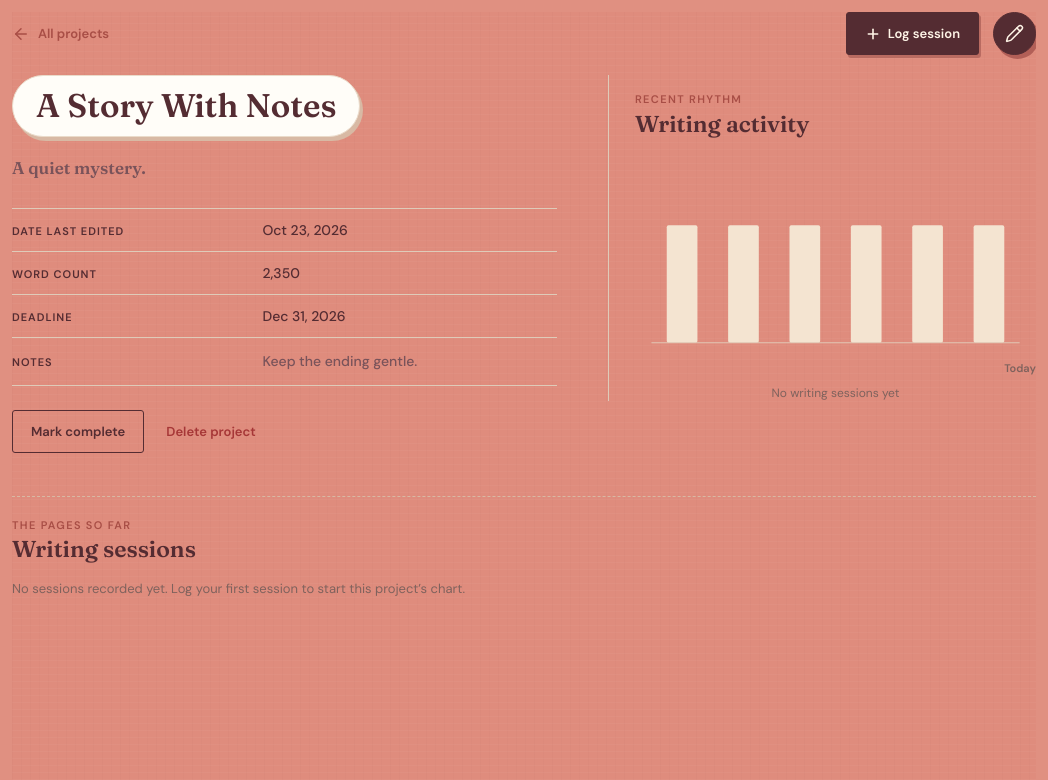
Test: ProjectDetail › opens the edit form from the pencil control
This screenshot has width=1048, height=780.
Click the button named "Edit project": (1014, 34) top-left (993, 12), bottom-right (1036, 55)
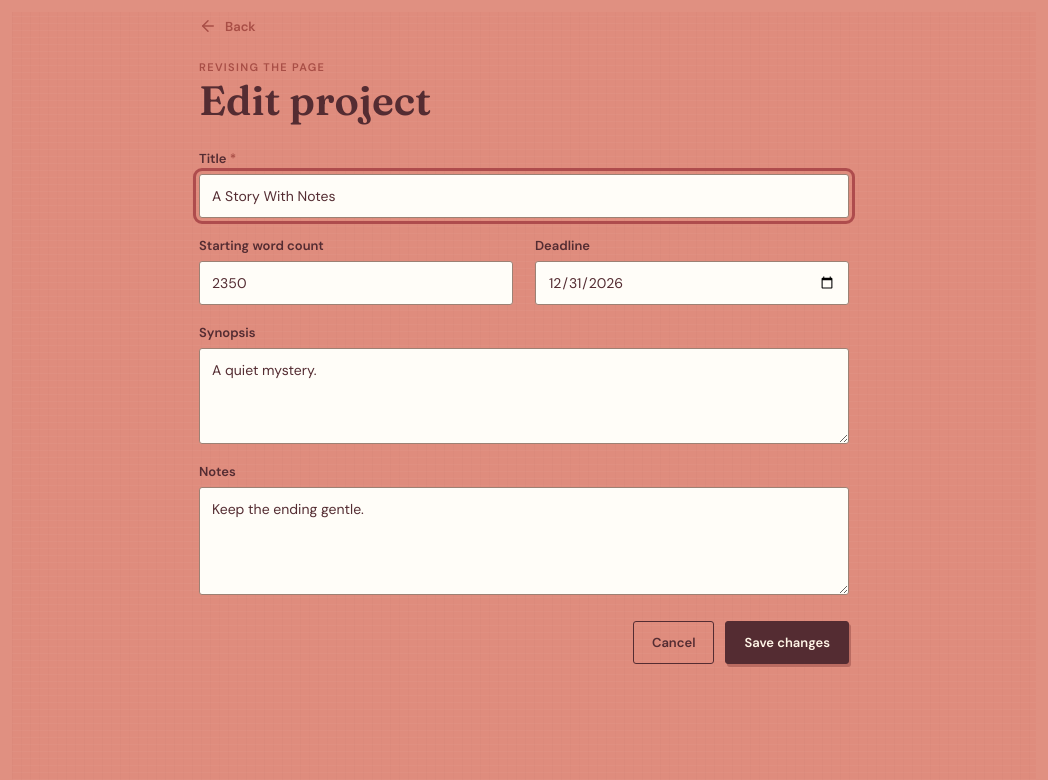
Now the heading "Edit project" is shown, box top-left (199, 75), bottom-right (431, 125)
Now the field labelled "Title *" holds "A Story With Notes", box top-left (199, 174), bottom-right (849, 218)
